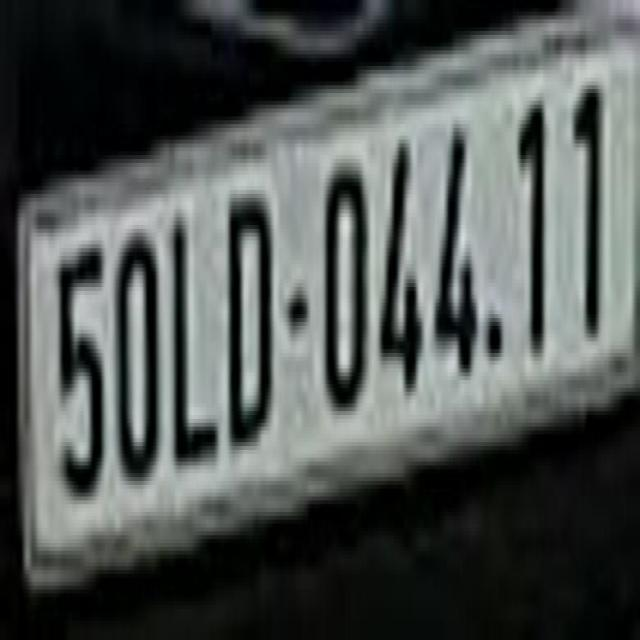0: (317, 109, 373, 438), (111, 190, 164, 512)
1: (516, 47, 561, 411), (568, 35, 614, 372)
4: (430, 74, 477, 422), (377, 105, 425, 442)
5: (54, 221, 108, 531)
D: (225, 163, 279, 489)
L: (165, 178, 224, 496)
